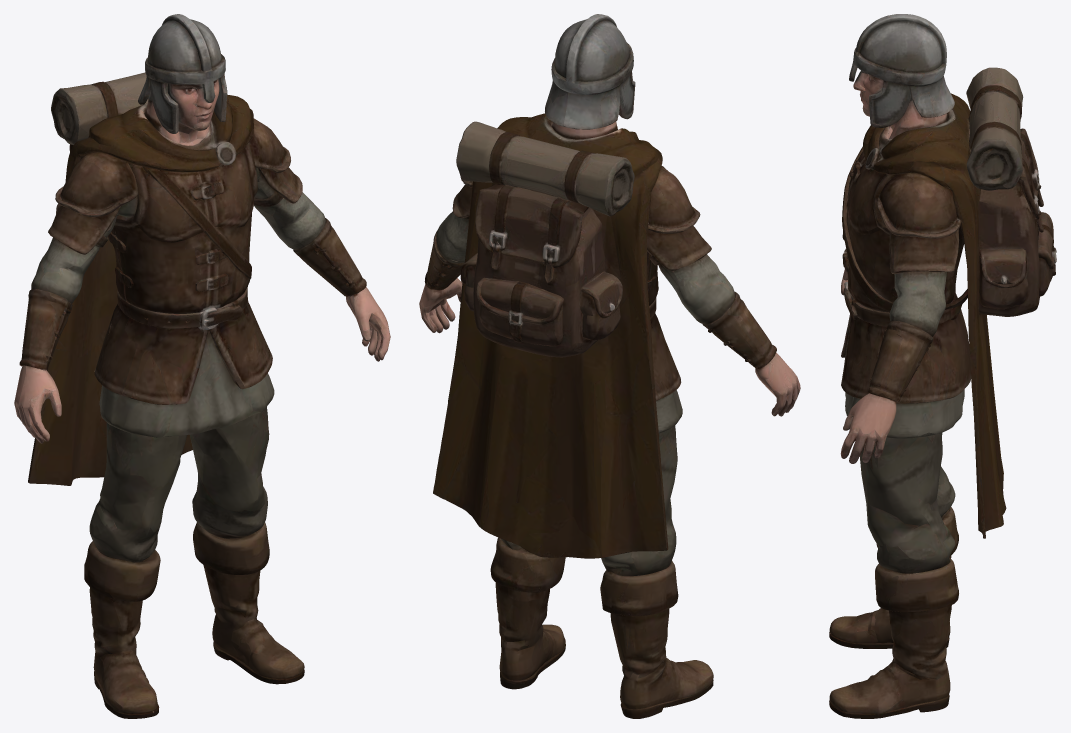
File: hero.glb
The picture shows the model from 3 angles, left to right: view 1: azimuth 30°, elevation 25°; view 2: azimuth 150°, elevation 25°; view 3: azimuth 270°, elevation 25°; orthographic projection.
Parts seen in each view (by area): view 1: Mesh_0; view 2: Mesh_0; view 3: Mesh_0.
Part boxes in pixels (box(x1,y1,x2,y2)): Mesh_0: box(14, 14, 390, 718); Mesh_0: box(419, 14, 800, 718); Mesh_0: box(829, 14, 1056, 718).
Size of the model in its own units: 1.1 by 1.9 by 0.5949.
1 material, 1 textured.
